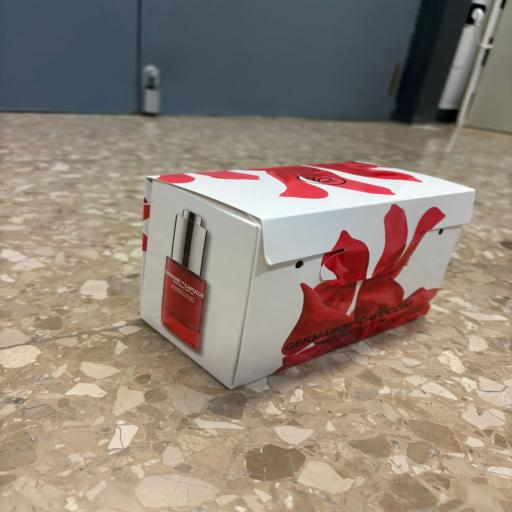caja_2: (140, 162, 475, 388)
